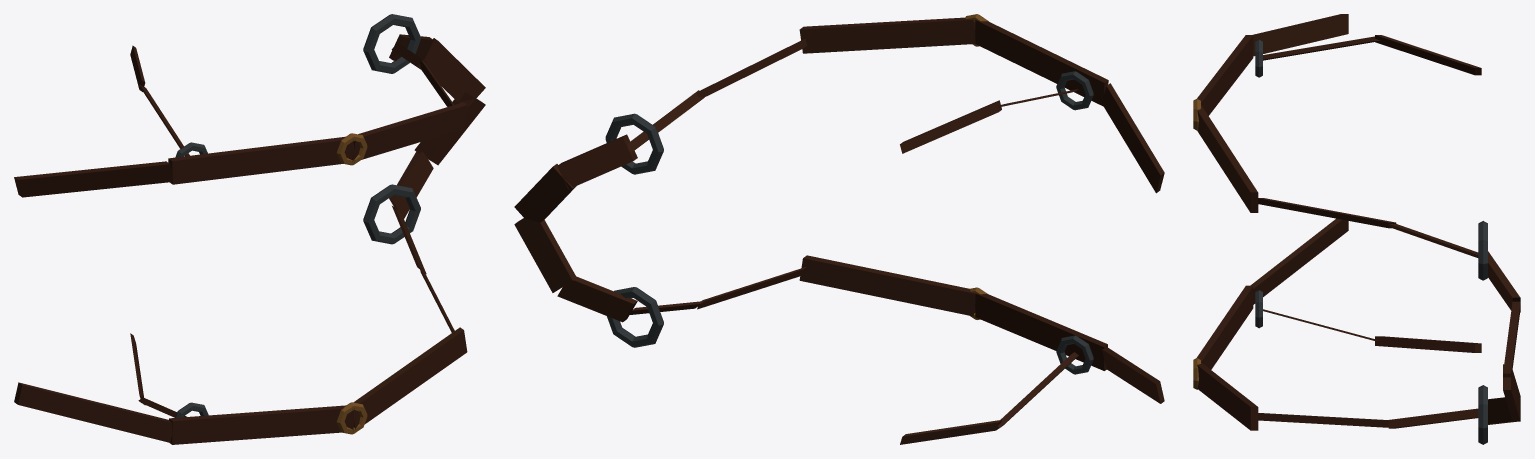
Rendered from bridle_LOD1.obj.
3 renders of one model, left to right at view 1: azimuth 30°, elevation 25°; view 2: azimuth 150°, elevation 25°; view 3: azimuth 270°, elevation 25°, orthographic. The views are drawn at different scales.
Bounding box in the file's own units: 1.29 × 0.7196 × 0.6865.
